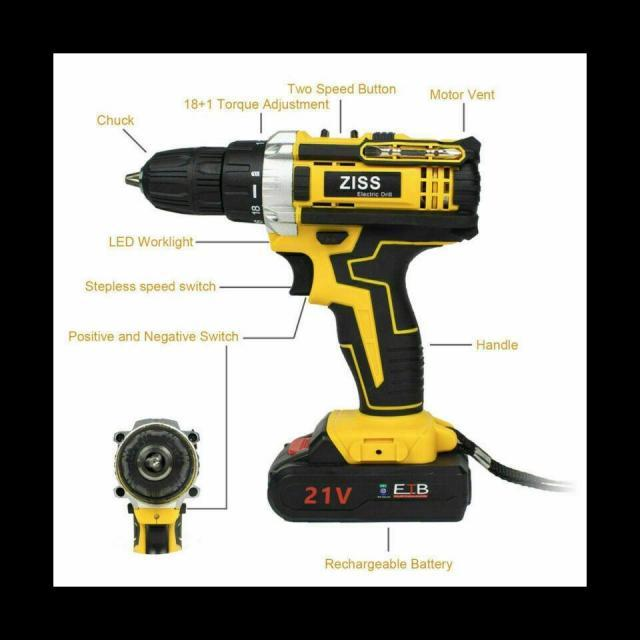drill: (126, 131, 480, 524), (112, 418, 200, 554)
